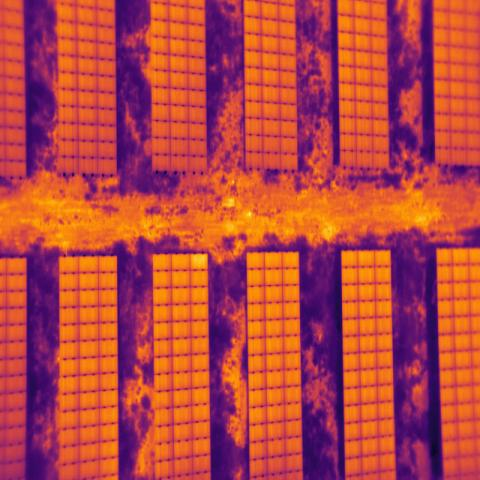fault: (191, 252, 208, 270)
